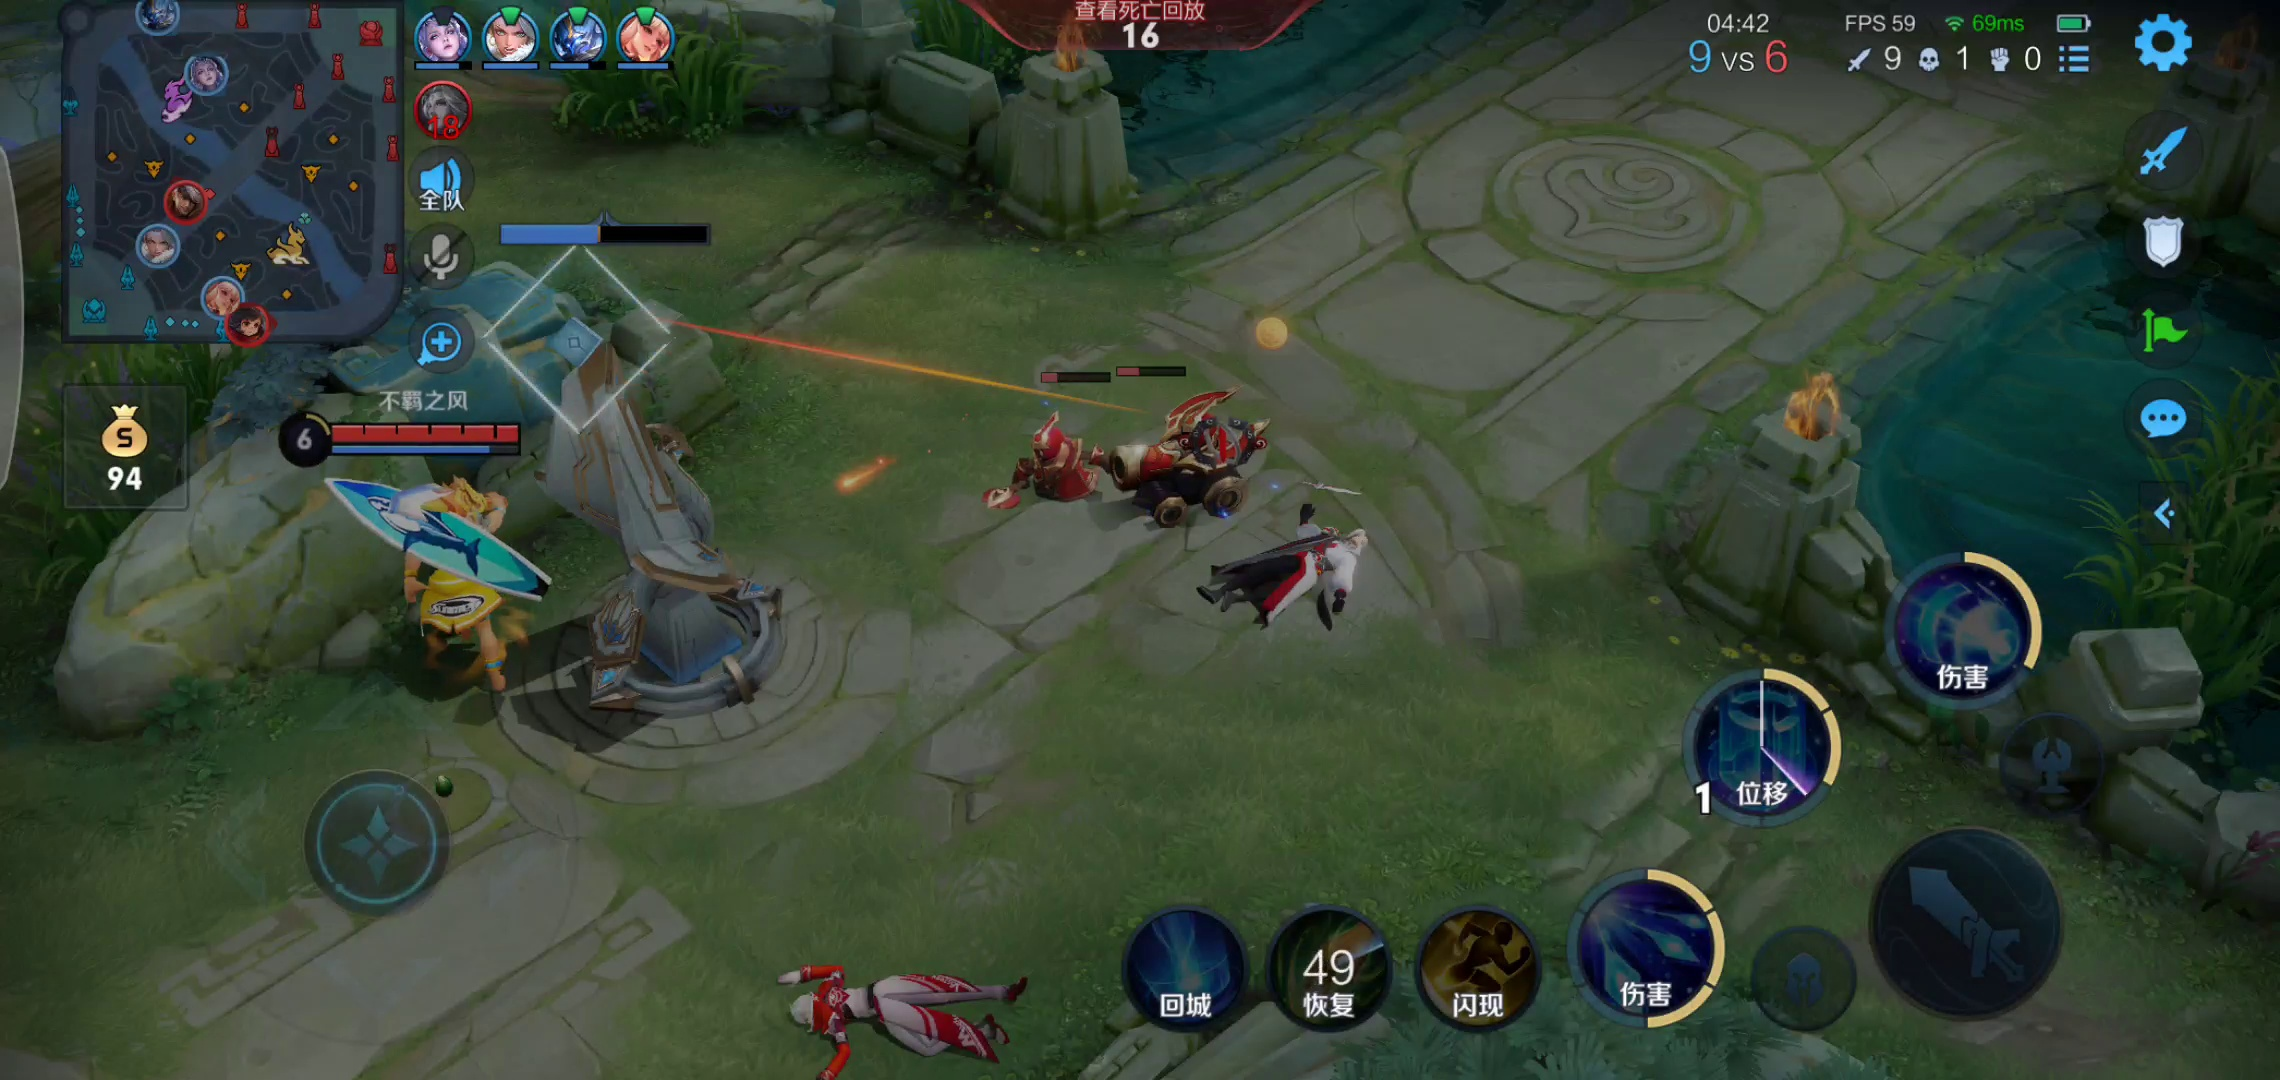grass: (2052, 365, 2273, 743), (7, 350, 284, 608), (518, 31, 806, 161)
hero: (736, 914, 1057, 1080), (323, 467, 544, 688), (1229, 510, 1376, 631)
soldier: (1115, 408, 1278, 510), (1002, 400, 1104, 515)
tower: (539, 339, 798, 706)
